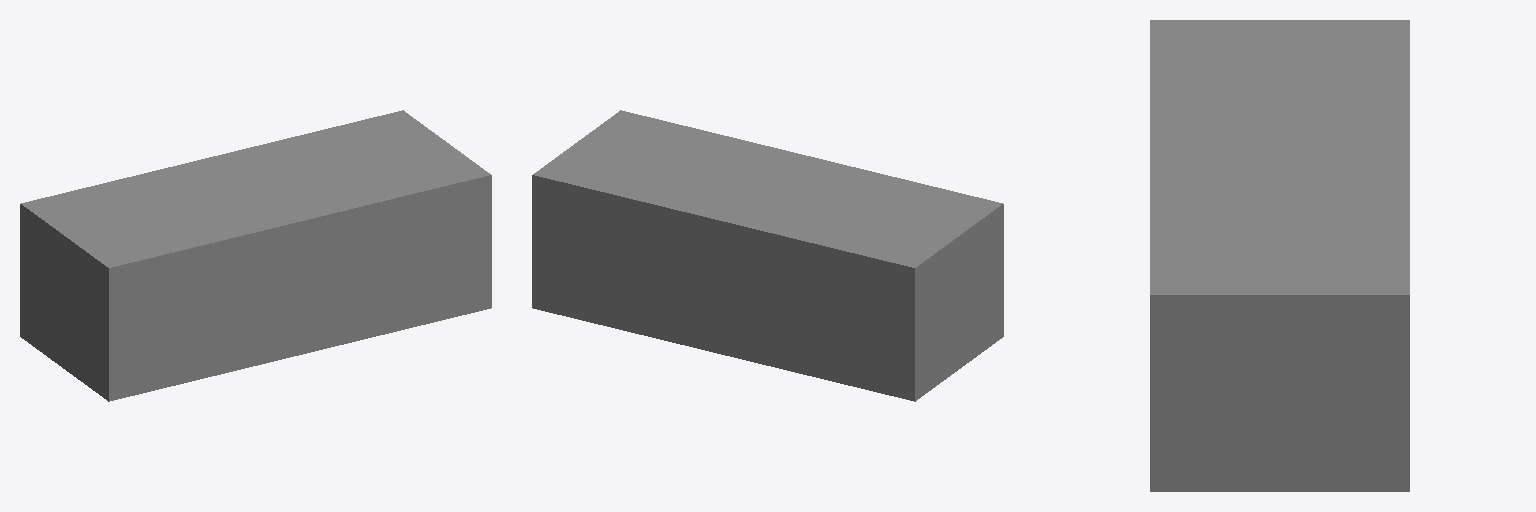
The robot description file, URDF, robot "cargo_transfer_box":
<?xml version="1.0"?>
<robot name="cargo_transfer_box">

  <!-- Materialdefinition -->
  <material name="grey">
    <color rgba="0.6 0.6 0.6 1.0"/>
  </material>

  <!-- Link der Cargo Transfer Box -->
  <link name="cargo_box">
    <visual>
      <geometry>
        <box size="1.5 0.6 0.5"/>
      </geometry>
      <material name="grey"/>
    </visual>
    <collision>
      <geometry>
        <box size="1.5 0.6 0.5"/>
      </geometry>
    </collision>
    <inertial>
      <mass value="15.0"/>
      <inertia 
        ixx="0" ixy="0.0"  ixz="0.0"
        iyy="0" iyz="0.0"
        izz="0"/>
      <origin xyz="0 0 0" rpy="0 0 0"/>
    </inertial>
  </link>

</robot>

--- What the picture shows (computed from the rendered views, not written in the file) ---
3 views of the same robot in one strip: view 1: azimuth 30°, elevation 25°; view 2: azimuth 150°, elevation 25°; view 3: azimuth 270°, elevation 25° (orthographic).
Robot: cargo_transfer_box — 1 links, 0 joints (none); root link cargo_box; default pose: all joints at 0.
Links seen in each view (by area): view 1: cargo_box; view 2: cargo_box; view 3: cargo_box.
Link boxes in pixels (left/top/right/bottom): cargo_box: left=20, top=110, right=491, bottom=401; cargo_box: left=532, top=110, right=1003, bottom=401; cargo_box: left=1150, top=20, right=1409, bottom=491.
Bounding box of the posed robot: 1.5 × 0.6 × 0.5 m (x, y, z).
Geometry: primitives only (box / cylinder / sphere), no mesh files.